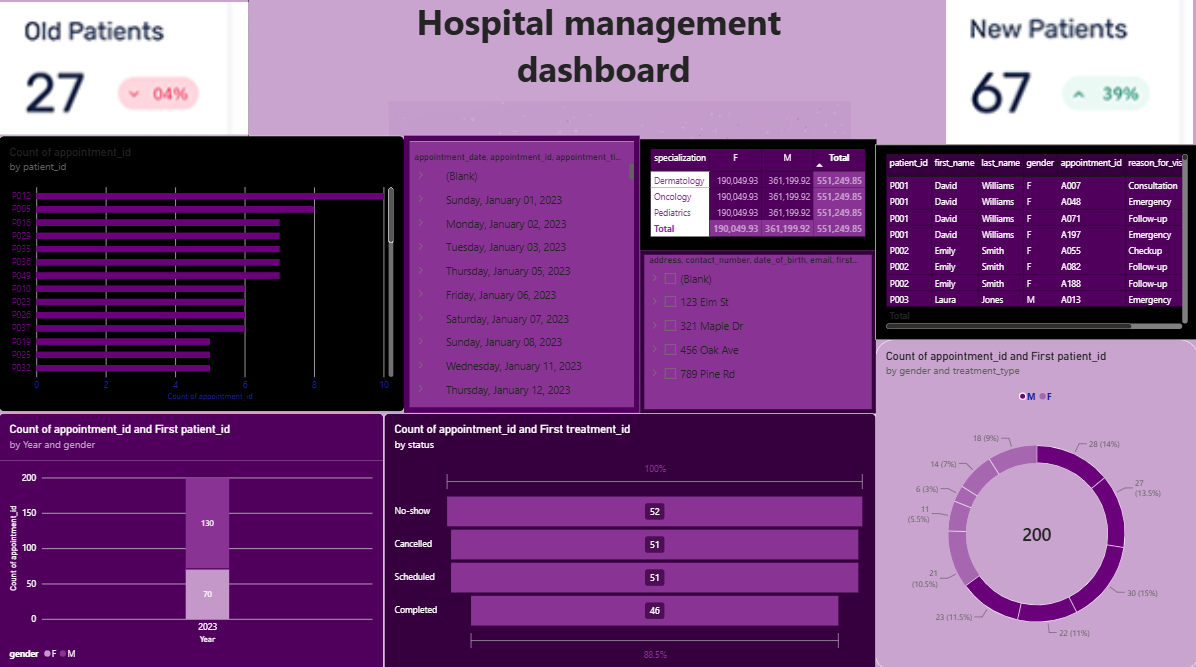

This screenshot's page, from the dashboard's own definition file:
{"tool":"powerbi","page":{"name":"Page 1","canvas":[1920,1080],"ordinal":0},"visuals":[{"type":"pivotTable","fields":{"Columns":["patients.gender"],"Rows":["doctors.specialization"],"Values":["Sum(billing.amount)"]},"box":[1025,227.5,377.5,177.5],"z":0},{"type":"barChart","fields":{"Category":["patients.patient_id"],"Y":["CountNonNull(treatments.appointment_id)"]},"box":[0,222.5,648.6,441.4],"z":1000},{"type":"donutChart","fields":{"Category":["patients.gender"],"Series":["treatments.treatment_type"],"Y":["CountNonNull(appointments.appointment_id)"]},"box":[1402.5,547.5,517.1,532.9],"z":2000},{"type":"slicer","fields":{"Values":["appointments.appointment_date","appointments.appointment_id","appointments.appointment_time","appointments.doctor_id","appointments.patient_id","appointments.reason_for_visit","appointments.status"]},"box":[647.5,222.5,377.1,442.9],"z":3000},{"type":"columnChart","fields":{"Category":["appointments.appointment_date.Variation.Date Hierarchy.Year"],"Series":["patients.gender"],"Y":["CountNonNull(appointments.appointment_id)"]},"box":[0,665,615,415],"z":4000},{"type":"slicer","fields":{"Values":["patients.address","patients.contact_number","patients.date_of_birth","patients.email","patients.first_name","patients.gender","patients.insurance_number","patients.insurance_provider","patients.last_name","patients.patient_id","patients.registration_date"]},"box":[1025,405,377.1,260],"z":5000},{"type":"tableEx","fields":{"Values":["patients.patient_id","patients.first_name","patients.last_name","patients.gender","appointments.appointment_id","appointments.reason_for_visit","Sum(treatments.cost)"]},"box":[1402.5,235,517.5,312.5],"z":6000},{"type":"funnel","fields":{"Category":["appointments.status"],"Y":["CountNonNull(appointments.appointment_id)"]},"box":[615,665,787.5,415],"z":7000},{"type":"image","box":[1503.3,0,417.5,235],"z":7001},{"type":"image","box":[0,0,400,227.5],"z":7002},{"type":"textbox","box":[400,0,1135,247.5],"z":7003}]}

Visuals, with their boxes in screenshot pixels (x1, y1, x2, y2), scaled from the page's 1920x1080 canvas onto the 1196x667 screenshot:
pivotTable - patients.gender x doctors.specialization: [x1=638, y1=141, x2=874, y2=250]
barChart - patients.patient_id x CountNonNull(treatments.appointment_id): [x1=0, y1=137, x2=404, y2=410]
donutChart - patients.gender x treatments.treatment_type: [x1=874, y1=338, x2=1195, y2=666]
slicer - appointments.appointment_date x appointments.appointment_id: [x1=403, y1=137, x2=638, y2=411]
columnChart - appointments.appointment_date.Variation.Date Hierarchy.Year x patients.gender: [x1=0, y1=411, x2=383, y2=666]
slicer - patients.address x patients.contact_number: [x1=638, y1=250, x2=873, y2=411]
tableEx - patients.patient_id x patients.first_name: [x1=874, y1=145, x2=1195, y2=338]
funnel - appointments.status x CountNonNull(appointments.appointment_id): [x1=383, y1=411, x2=874, y2=666]
image: [x1=936, y1=0, x2=1195, y2=145]
image: [x1=0, y1=0, x2=249, y2=141]
textbox: [x1=249, y1=0, x2=956, y2=153]
